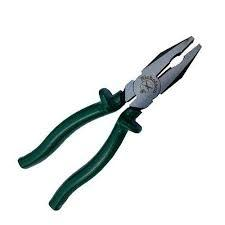pliers: (17, 34, 202, 211)
